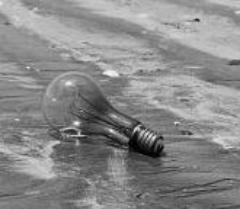lightbulb: (42, 70, 164, 157)
